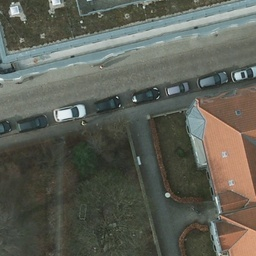car: (16, 111, 48, 134), (54, 103, 86, 124), (197, 72, 227, 90), (94, 96, 122, 115), (133, 86, 157, 106), (165, 80, 189, 97), (232, 66, 254, 83), (0, 119, 12, 138)
